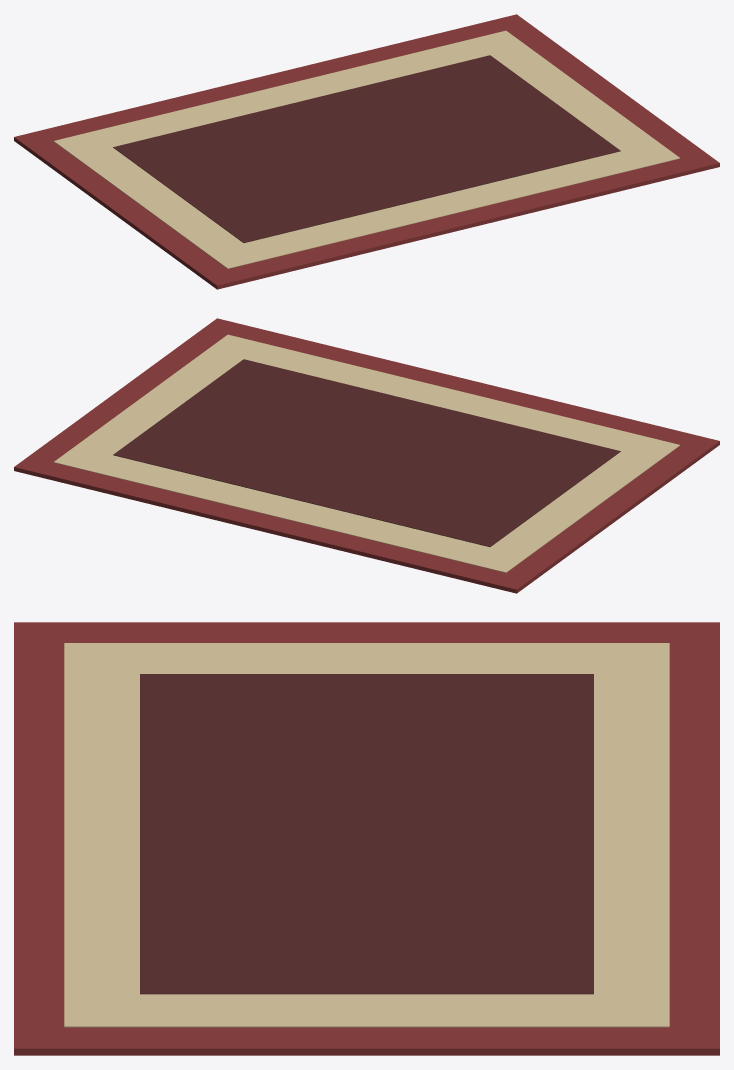
Rendered from rug.obj.
3 views of the same model, one above another, from view 1: azimuth 30°, elevation 25°; view 2: azimuth 150°, elevation 25°; view 3: azimuth 270°, elevation 25° (orthographic). The views are drawn at different scales.
Visible parts, largest first — view 1: rug_2, rug_1, rug_0; view 2: rug_2, rug_1, rug_0; view 3: rug_2, rug_1, rug_0.
Part boxes in pixels (bbox=[...]): rug_2: bbox=[113, 55, 620, 242]; rug_1: bbox=[53, 30, 680, 268]; rug_0: bbox=[14, 14, 719, 289]; rug_2: bbox=[113, 359, 620, 546]; rug_1: bbox=[53, 334, 680, 572]; rug_0: bbox=[14, 318, 719, 593]; rug_2: bbox=[140, 674, 593, 994]; rug_1: bbox=[64, 643, 669, 1027]; rug_0: bbox=[14, 622, 719, 1055].
Size of the model in its own units: 2 by 0.019 by 1.4.
